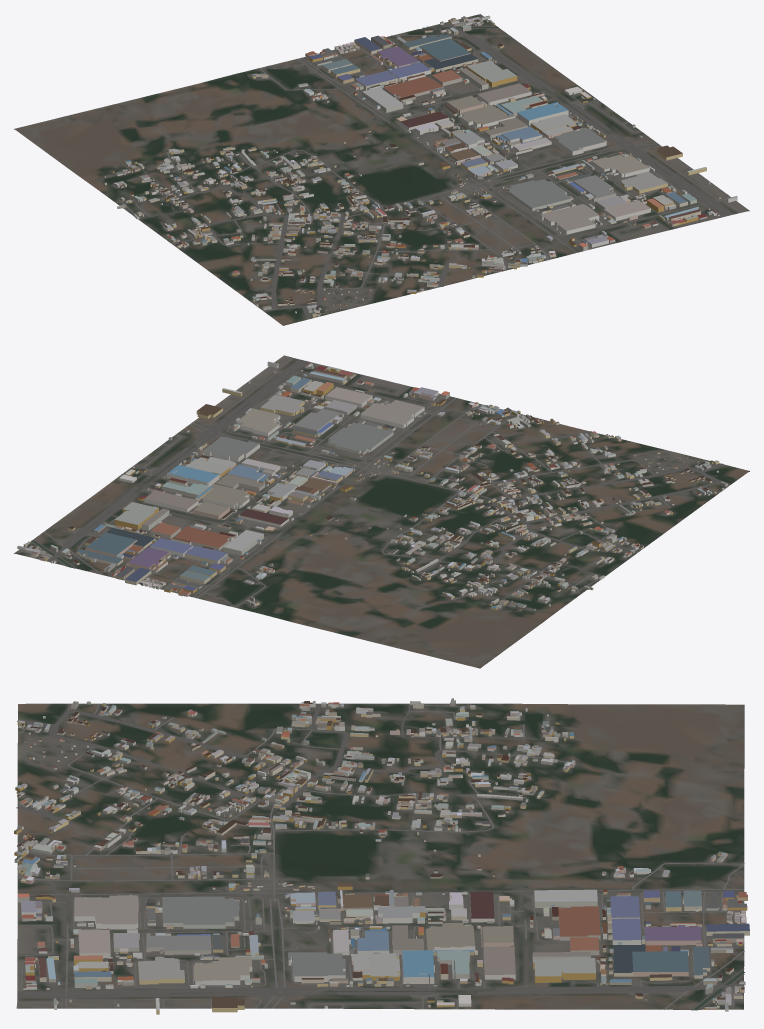
The picture shows the model from 3 angles, top to bottom: view 1: azimuth 30°, elevation 25°; view 2: azimuth 150°, elevation 25°; view 3: azimuth 270°, elevation 25°; orthographic projection. The views are drawn at different scales.
Visible parts, largest first — view 1: ground, buildings, roads; view 2: ground, buildings, roads; view 3: ground, buildings, roads.
Part boxes in pixels (left/top/right/bottom): ground: left=14, top=14, right=749, bottom=325; buildings: left=104, top=15, right=737, bottom=317; roads: left=120, top=21, right=749, bottom=319; ground: left=14, top=356, right=749, bottom=668; buildings: left=17, top=361, right=727, bottom=610; roads: left=22, top=355, right=729, bottom=610; ground: left=17, top=703, right=744, bottom=1010; buildings: left=14, top=698, right=749, bottom=1014; roads: left=16, top=703, right=744, bottom=1009.
Size of the model in its own units: 1438 by 22.14 by 1418.
